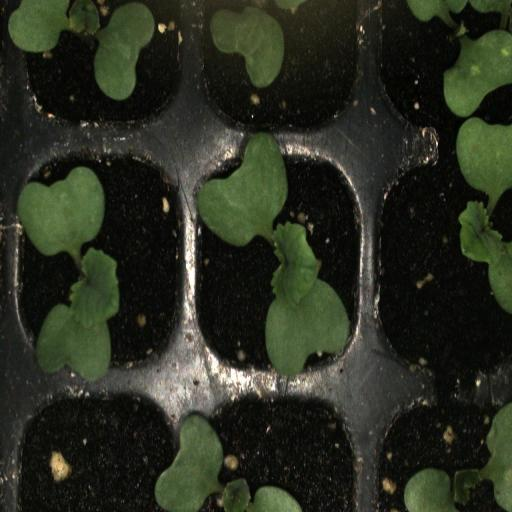Folha: (443, 29, 512, 314), (208, 5, 287, 89), (477, 402, 512, 512), (404, 468, 457, 512)
Germinacao: (5, 146, 189, 383), (190, 146, 373, 383), (375, 144, 512, 386), (11, 0, 188, 145), (184, 378, 373, 512), (376, 386, 512, 512)
